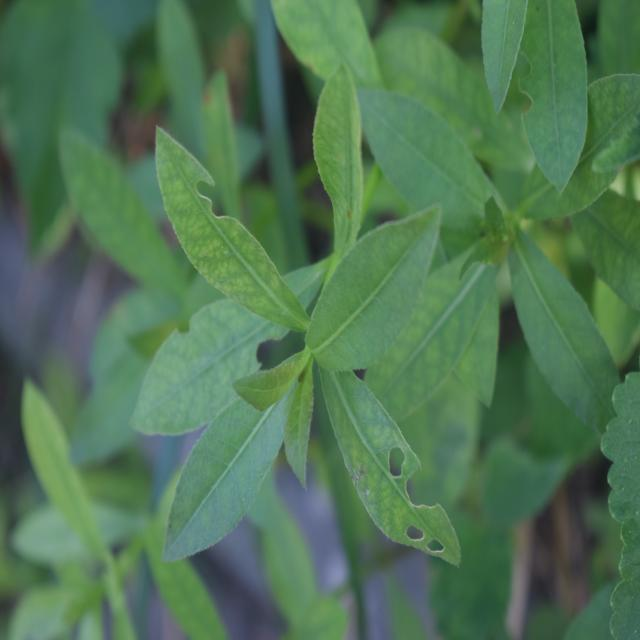Alligatorweed: (134, 142, 479, 578)
